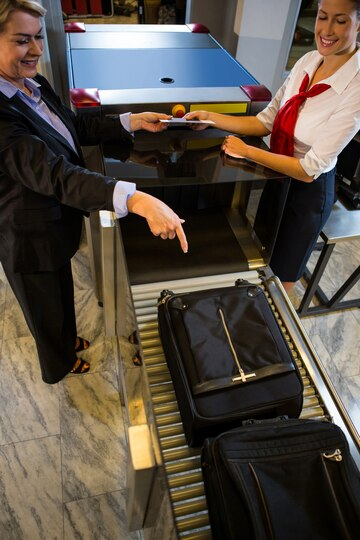baggage: (151, 278, 311, 427), (200, 424, 358, 540)
